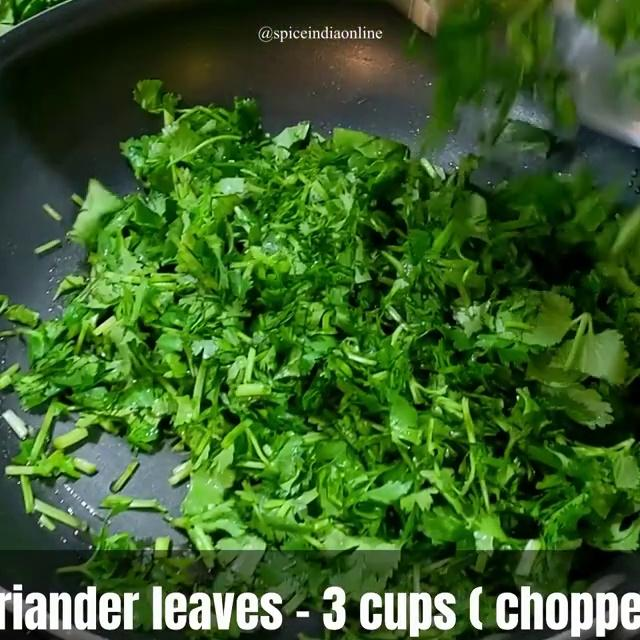cilantro: (70, 149, 633, 535)
